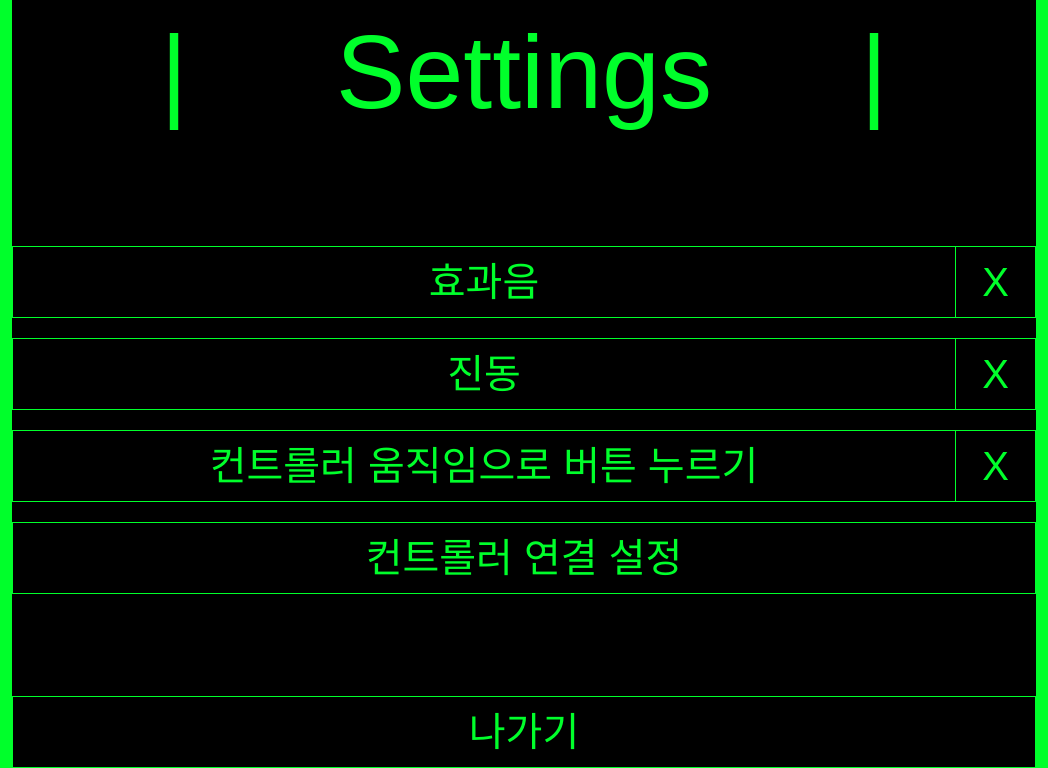
Settings 페이지 테스트 › 효과음 버튼을 누른 경우 토글되어야 합니다
Click the button "효과음" at x=484, y=282, box [12,246,956,318]
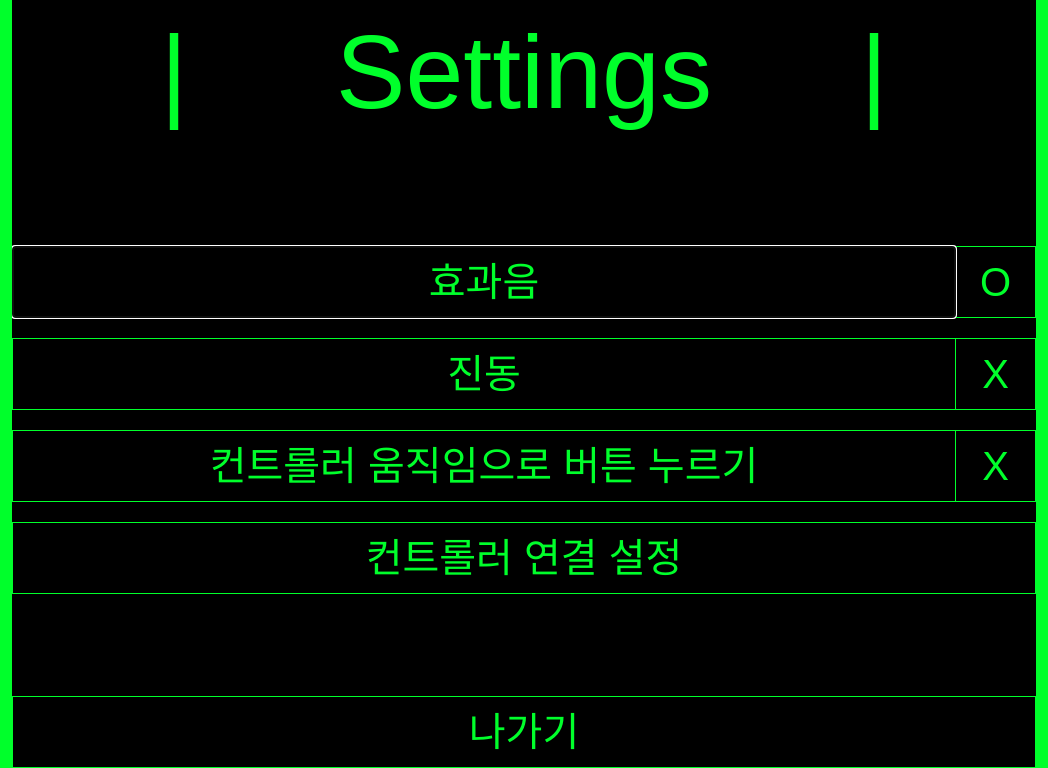
Expected: the text with test id "test-효과음" reads "O", [980,260,1011,304]
